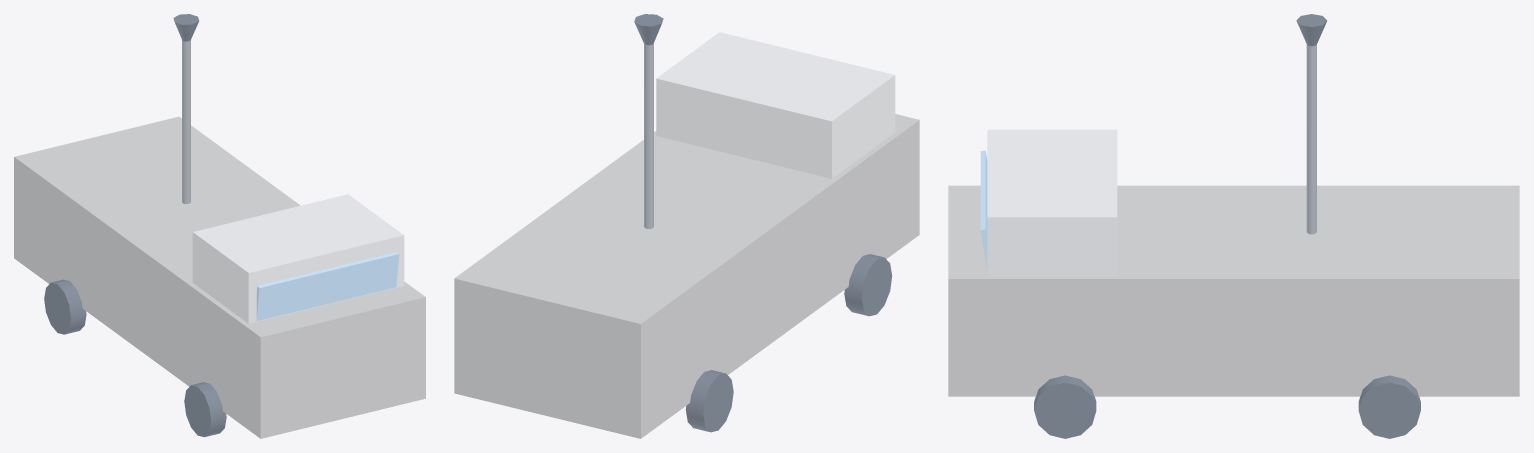
File: van_command.glb
3 renders of one model, left to right at view 1: azimuth 30°, elevation 25°; view 2: azimuth 150°, elevation 25°; view 3: azimuth 270°, elevation 25°, orthographic. The views are drawn at different scales.
Bounding box in the file's own units: 0.98 × 1.55 × 2.2.
